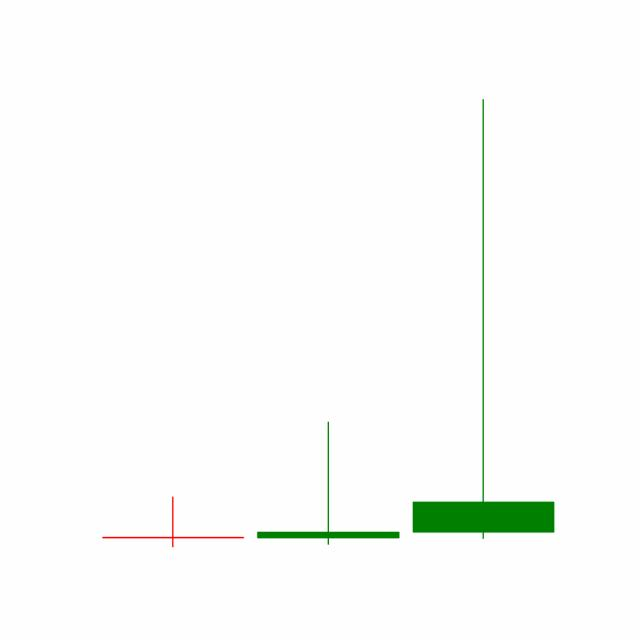Gravestone Doji: (405, 94, 561, 544)
